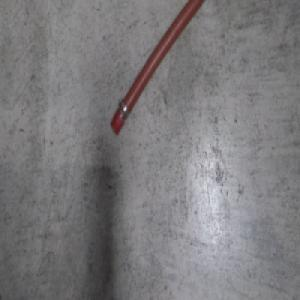Hose: (109, 0, 206, 138)
